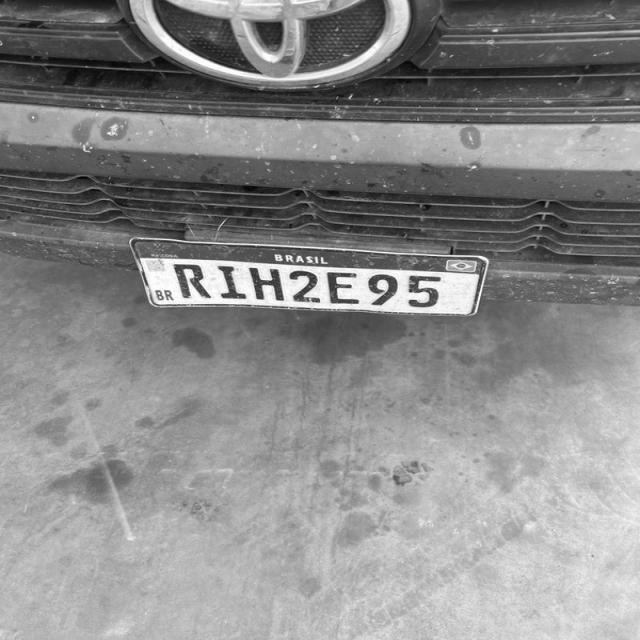placa_mercosul: (130, 238, 488, 316)
